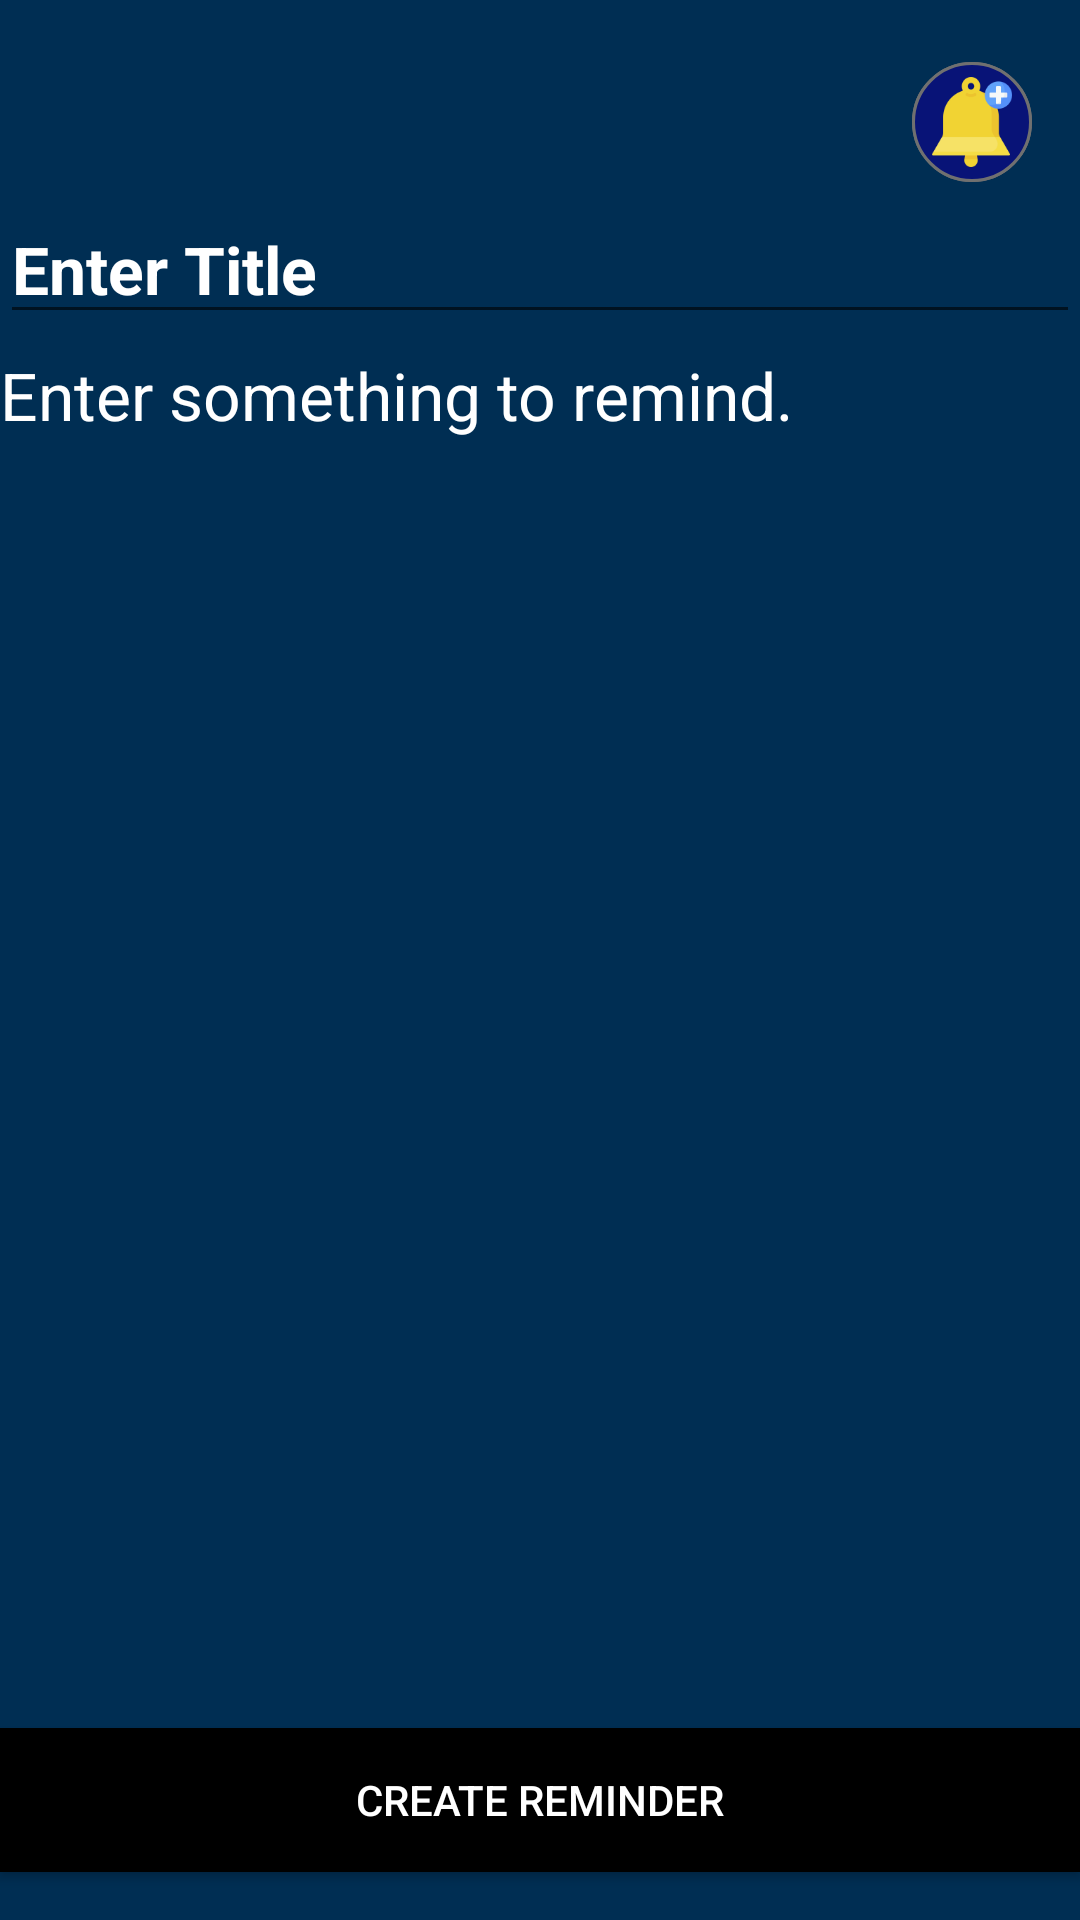

Icon bounding boxes for this 1080px×1920px phone screenshot, format (x1, y1, x2, y2):
alarm: (912, 62, 1032, 182)
